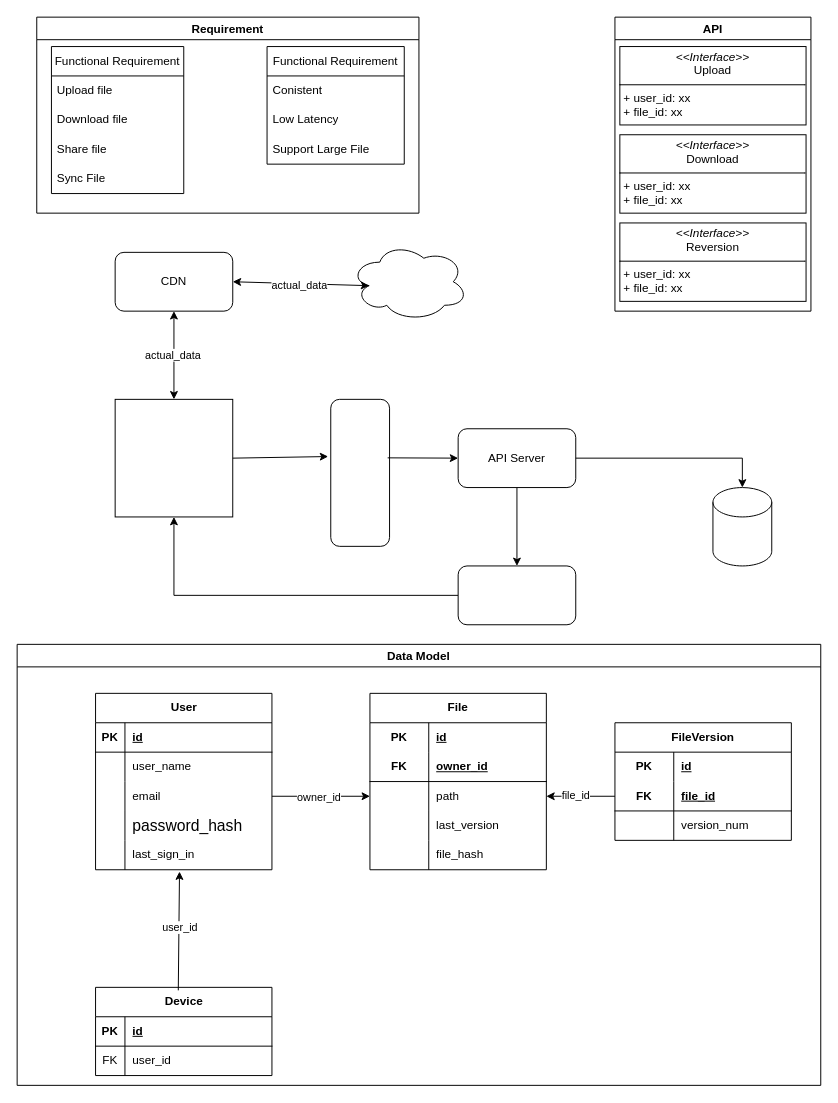
The diagram is 838 pixels wide and 1103 high, and some of its shapes have lost their labels. Each missing label, with the centre of its shape:
Client: the point at 173,457
Cloud Storage: the point at 408,281
Load Balancer: the point at 360,472
MySQL: the point at 742,526
Notification Server: the point at 516,595
